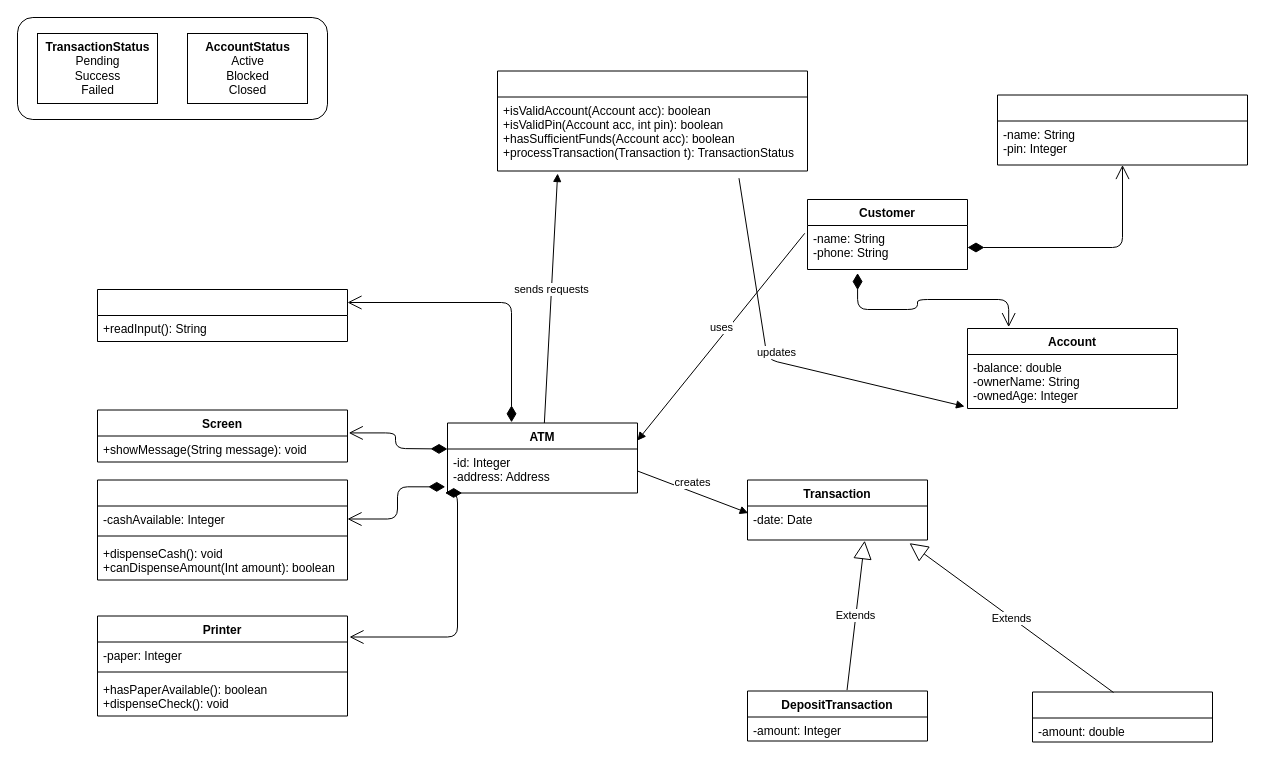
This 1265x762 diagram has some shape labels left out. Each missing label, with the box of its shape:
Bank: (496, 70, 808, 171)
Card: (996, 94, 1248, 165)
CashDispenser: (96, 479, 348, 580)
Keypad: (96, 288, 348, 342)
WithdrawTransaction: (1032, 691, 1212, 742)
